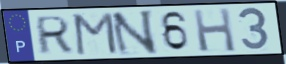3: (236, 5, 272, 54)
6: (159, 10, 190, 53)
H: (191, 7, 239, 53)
M: (72, 11, 120, 57)
N: (108, 8, 160, 57)
R: (35, 14, 74, 56)
